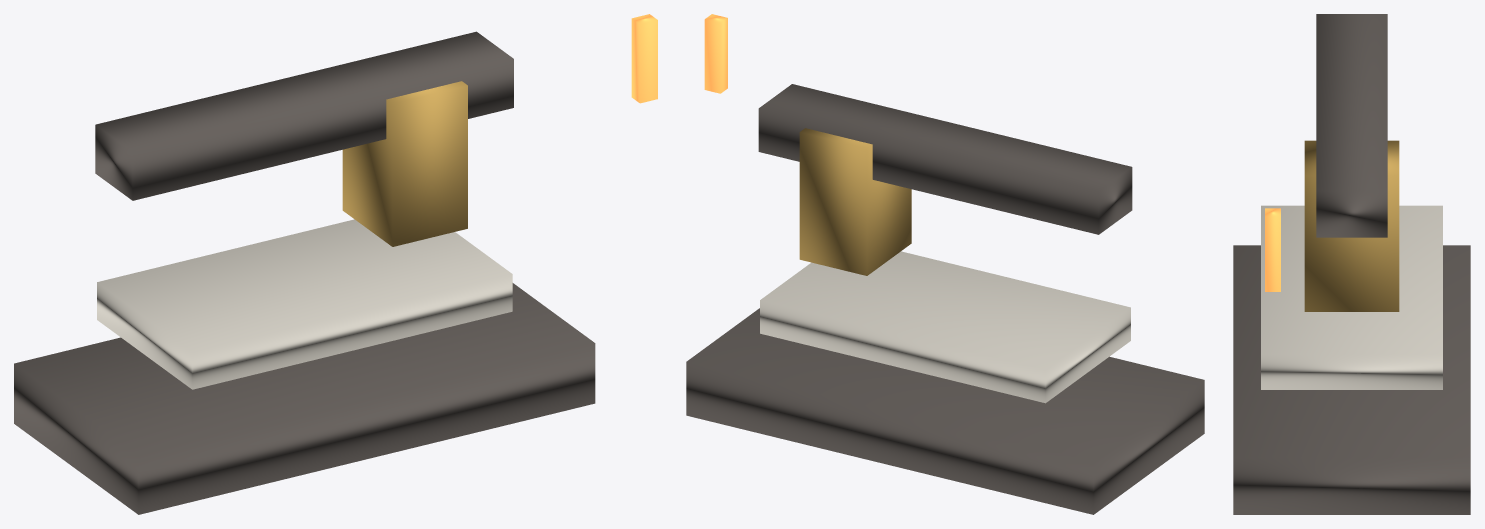
Rendered from solar-yard-printer-spindle-lod2.glb.
3 renders of one model, left to right at view 1: azimuth 30°, elevation 25°; view 2: azimuth 150°, elevation 25°; view 3: azimuth 270°, elevation 25°, orthographic. The views are drawn at different scales.
Visible parts, largest first — view 1: solar-yard-printer-spindle-base, solar-yard-printer-spindle-bed, solar-yard-printer-spindle-gantry, solar-yard-printer-spindle-head, solar-yard-printer-spindle-status; view 2: solar-yard-printer-spindle-base, solar-yard-printer-spindle-bed, solar-yard-printer-spindle-gantry, solar-yard-printer-spindle-head, solar-yard-printer-spindle-status; view 3: solar-yard-printer-spindle-base, solar-yard-printer-spindle-bed, solar-yard-printer-spindle-gantry, solar-yard-printer-spindle-head, solar-yard-printer-spindle-status.
Part boxes in pixels (x1=…): solar-yard-printer-spindle-base: x1=14, y1=283, x2=595, y2=514; solar-yard-printer-spindle-bed: x1=97, y1=219, x2=512, y2=389; solar-yard-printer-spindle-gantry: x1=95, y1=31, x2=513, y2=200; solar-yard-printer-spindle-head: x1=342, y1=81, x2=467, y2=246; solar-yard-printer-spindle-status: x1=631, y1=14, x2=657, y2=103; solar-yard-printer-spindle-base: x1=686, y1=308, x2=1204, y2=514; solar-yard-printer-spindle-bed: x1=760, y1=251, x2=1130, y2=403; solar-yard-printer-spindle-gantry: x1=758, y1=84, x2=1132, y2=234; solar-yard-printer-spindle-head: x1=799, y1=128, x2=911, y2=275; solar-yard-printer-spindle-status: x1=704, y1=14, x2=727, y2=93; solar-yard-printer-spindle-base: x1=1233, y1=245, x2=1470, y2=514; solar-yard-printer-spindle-bed: x1=1261, y1=205, x2=1442, y2=389; solar-yard-printer-spindle-gantry: x1=1316, y1=14, x2=1387, y2=237; solar-yard-printer-spindle-head: x1=1304, y1=140, x2=1399, y2=311; solar-yard-printer-spindle-status: x1=1265, y1=208, x2=1280, y2=291.
Size of the model in its own units: 2.98 by 1.87 by 1.2.
